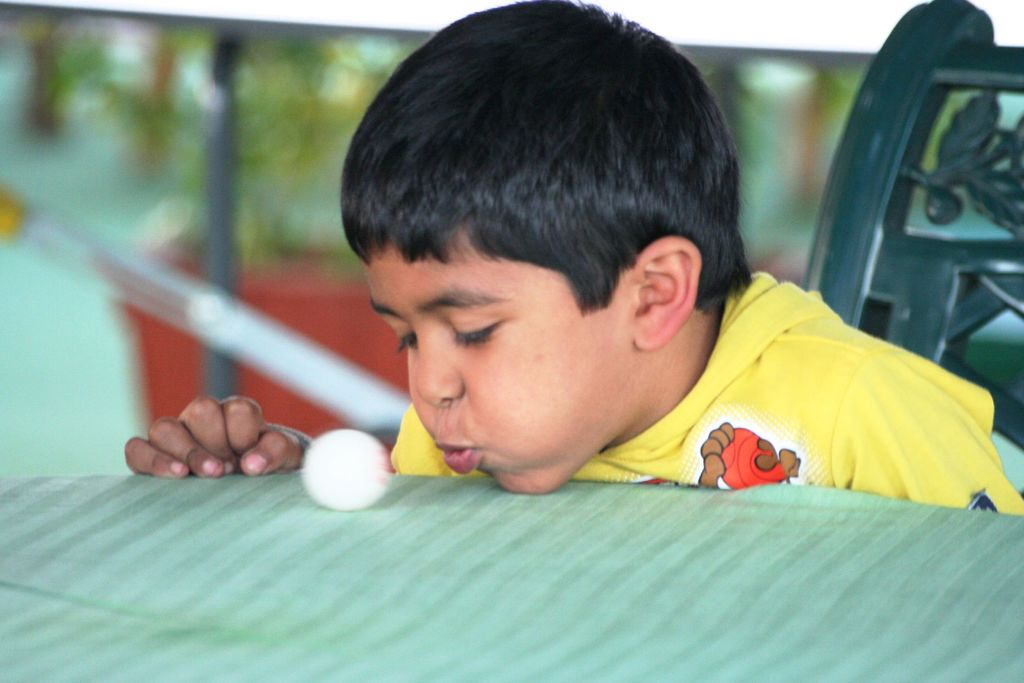Human_hand: (120, 395, 298, 488)
